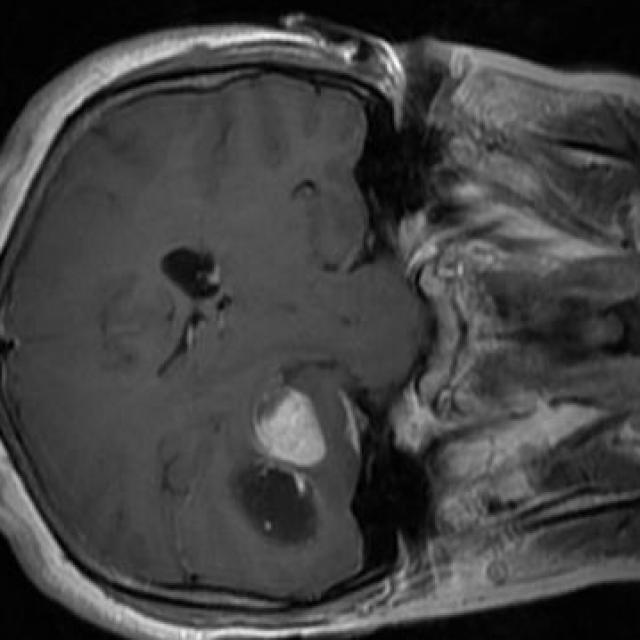meningioma: (242, 390, 324, 540)
